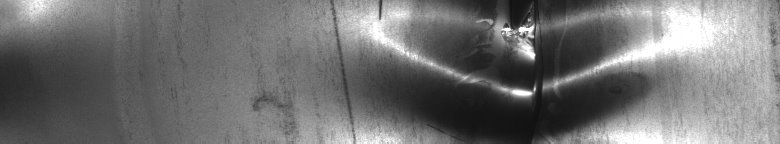ke: (332, 4, 641, 136)
